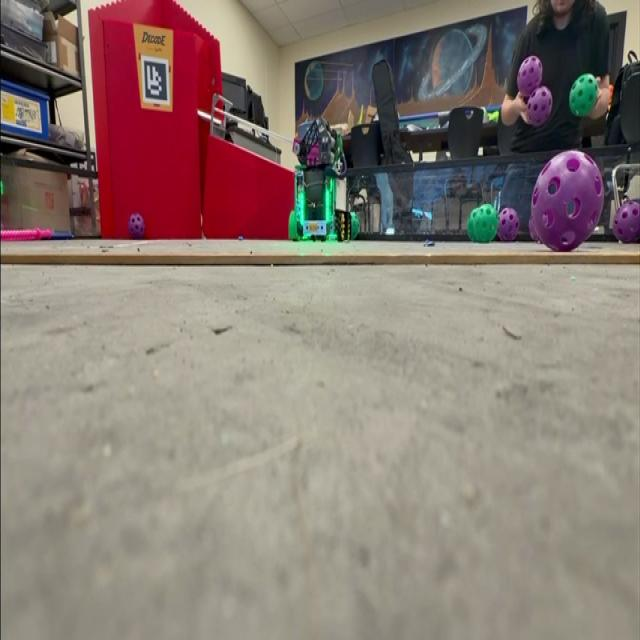artifact_green: (569, 74, 598, 117), (474, 204, 498, 242), (467, 208, 477, 241), (288, 210, 298, 239), (350, 212, 359, 239)
artifact_purple: (532, 151, 604, 251), (614, 200, 639, 243), (527, 86, 553, 126), (518, 56, 542, 97), (498, 208, 519, 242), (129, 214, 145, 238), (529, 216, 540, 242)
